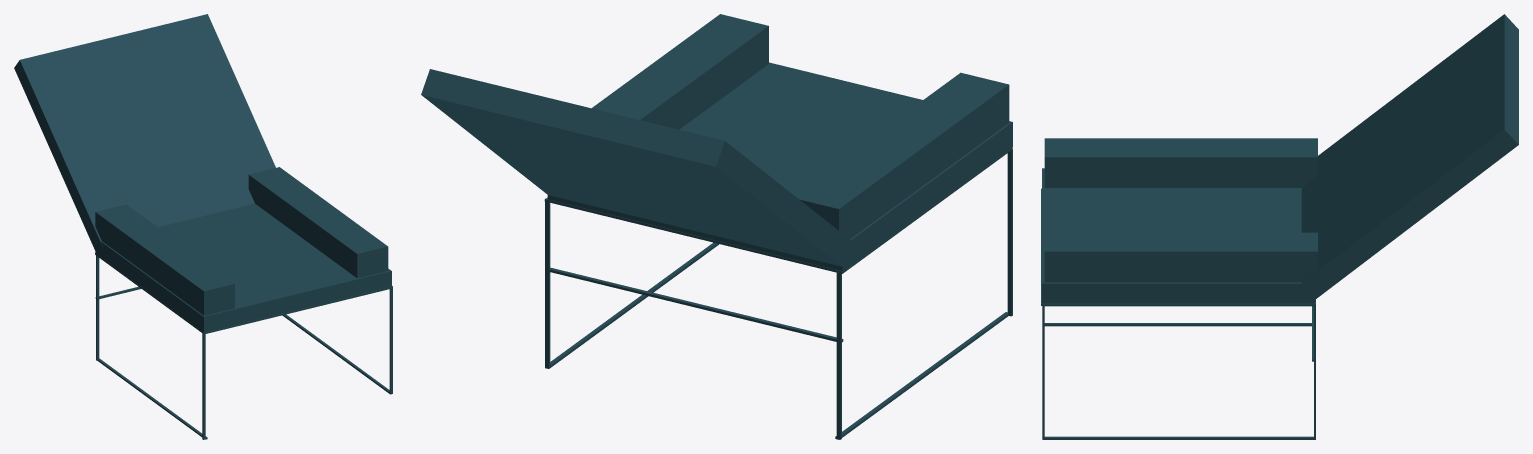
The model's file is BlueChair.fbx.
3 renders of one model, left to right at view 1: azimuth 30°, elevation 25°; view 2: azimuth 150°, elevation 25°; view 3: azimuth 270°, elevation 25°, orthographic. The views are drawn at different scales.
Parts seen in each view (by area): view 1: Cube.002; view 2: Cube.002; view 3: Cube.002.
Part boxes in pixels (x1,y1,x2,y2): Cube.002: (14, 14, 392, 439); Cube.002: (421, 14, 1012, 439); Cube.002: (1041, 14, 1518, 439).
Bounding box in the file's own units: 2.02 × 2.5 × 3.5.
